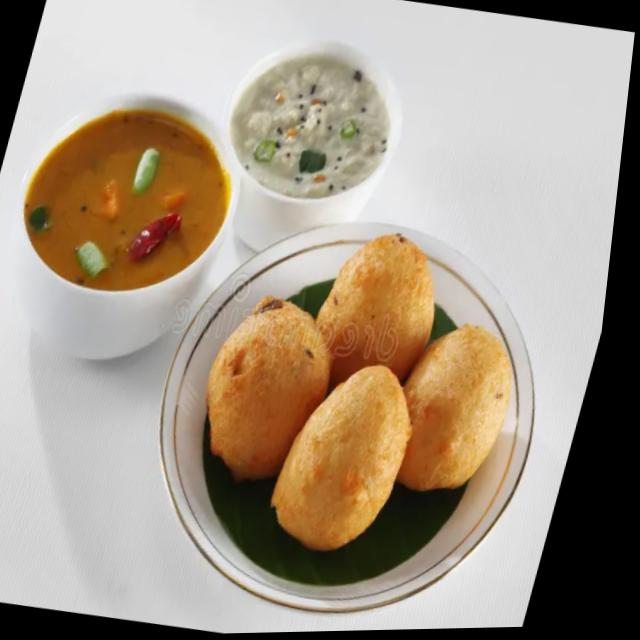BONDA: (203, 234, 515, 574)
SAMBAR: (28, 110, 229, 289)
WHITE CHUTNEY: (236, 55, 392, 201)
